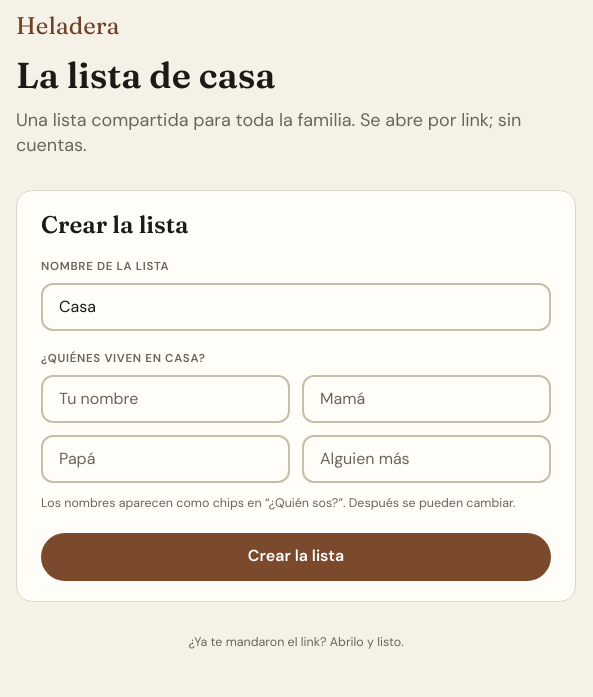
Test: Home › si crear falla, muestra el error y vuelve a habilitar el botón
Click the button "Crear la lista".
click(296, 557)  # box x1=41 y1=533 x2=551 y2=581
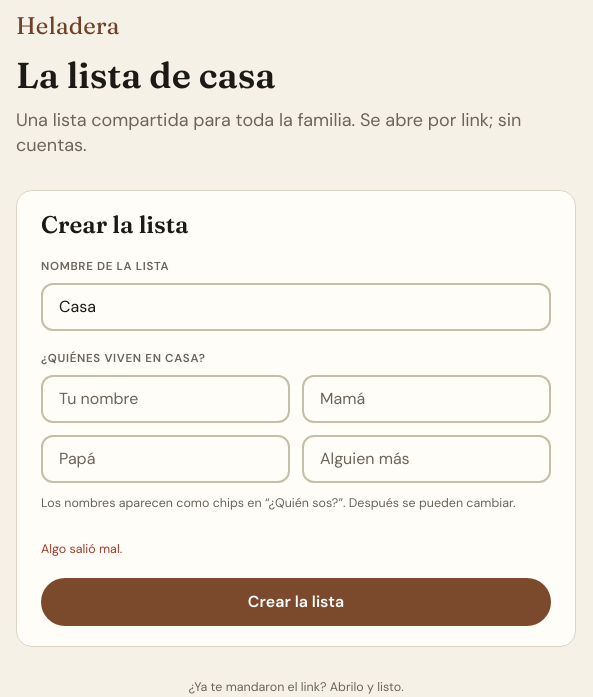
Check: the button "Crear la lista" is enabled, box x1=41 y1=578 x2=551 y2=626
Check: the text "Algo salió mal." is shown, box x1=41 y1=541 x2=122 y2=557
